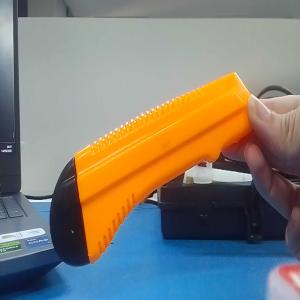estilete: (49, 72, 253, 266)
